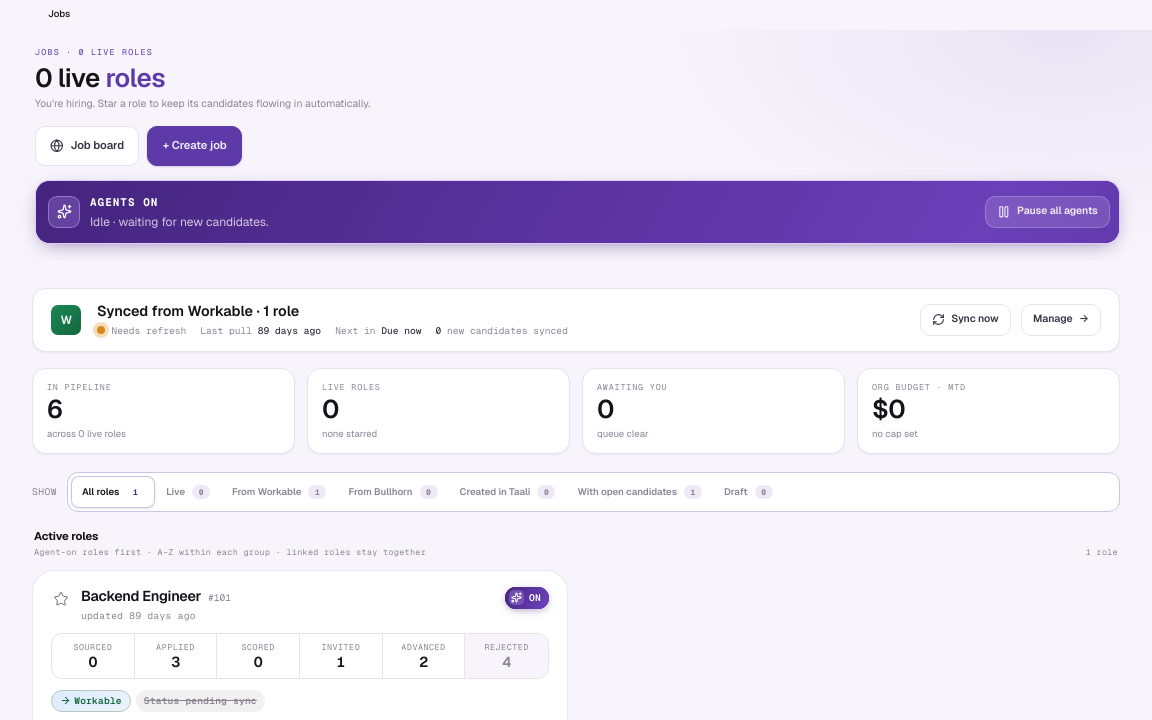
Test: JobsPage Workable sync states › does not reuse a pre-mutation workspace poll after Pause succeeds
Click the button "Pause all agents". click: point(1047, 212)
box: [985, 196, 1110, 228]
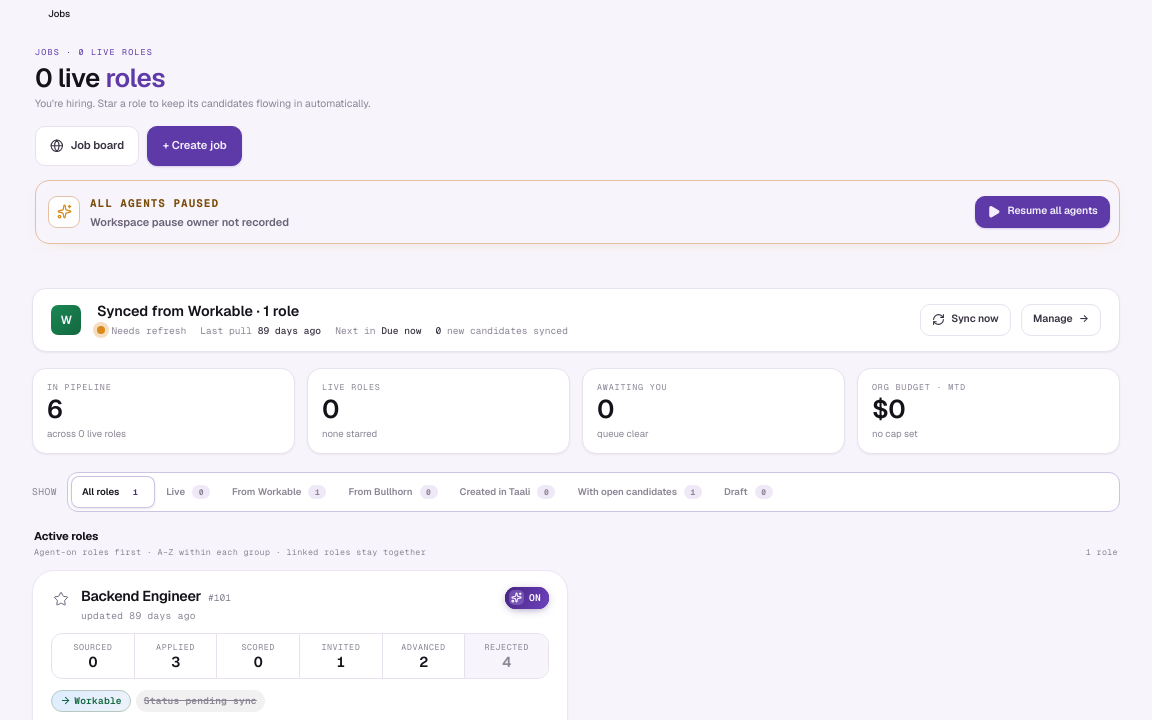
Now the message labelled "All agents paused" is shown, box [90, 196, 219, 210]
Now the button "Resume all agents" is shown, box [975, 196, 1110, 228]
Now the button "Pause all agents" is gone
